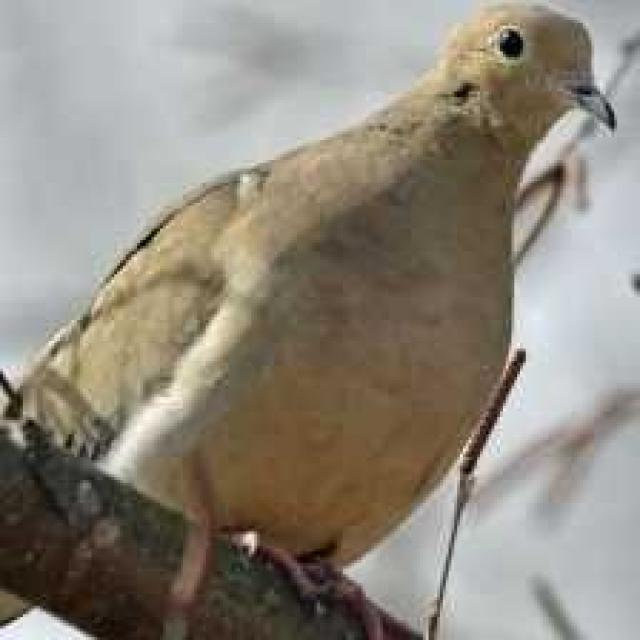bird: (28, 0, 622, 630)
